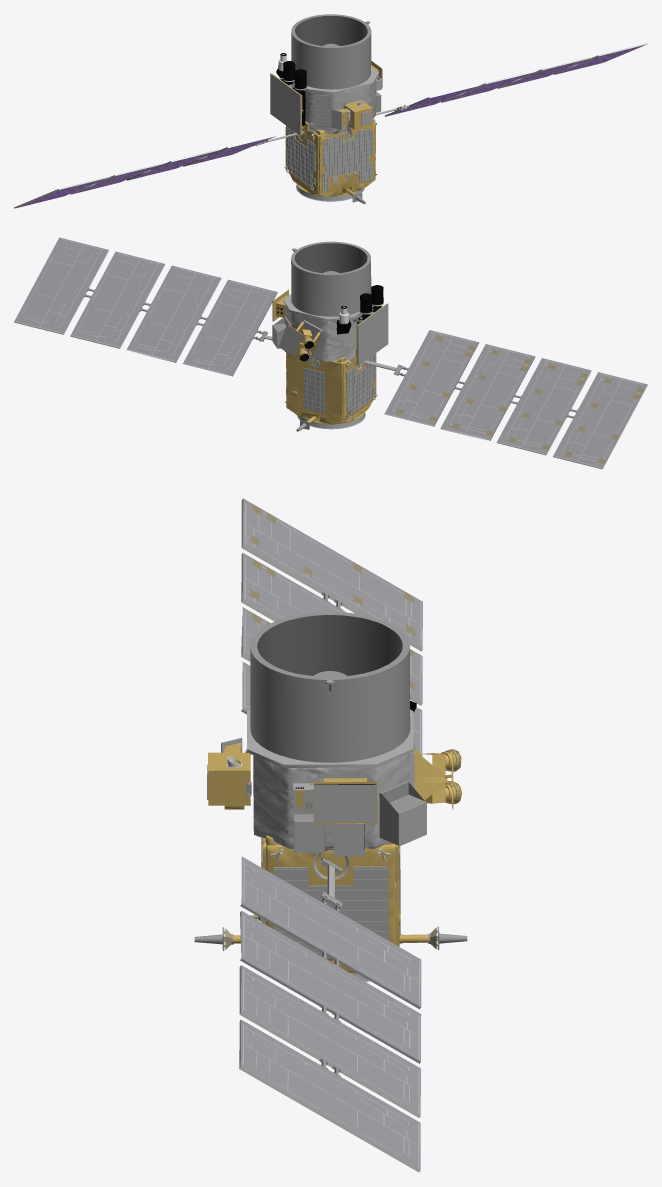
File: Calipso.glb
3 views of the same model, one above another, from view 1: azimuth 30°, elevation 25°; view 2: azimuth 150°, elevation 25°; view 3: azimuth 270°, elevation 25° (orthographic). The views are drawn at different scales.
Visible parts, largest first — view 1: Mesh _node_5, Mesh _node_19, Mesh _node_16, Mesh _node_7, Mesh _node_1, Mesh _node_18, Mesh _node_3, Mesh _node_17, Mesh _node_14, Mesh, Mesh _node_9, Mesh _node_10 (+5 smaller); view 2: Mesh _node_16, Mesh _node_7, Mesh _node_5, Mesh _node_19, Mesh _node_3, Mesh _node_18, Mesh _node_1, Mesh _node_0, Mesh _node_4, Mesh _node_14, Mesh _node_17, Mesh _node_2; view 3: Mesh _node_16, Mesh _node_7, Mesh _node_19, Mesh _node_18, Mesh _node_1, Mesh _node_5, Mesh _node_4, Mesh _node_2, Mesh _node_17, Mesh _node_0.
Boxes of the visible parts, x1,y1,x2,y2 form: Mesh _node_5: (270,20,373,191); Mesh _node_19: (291,14,371,89); Mesh _node_16: (15,44,646,208); Mesh _node_7: (267,65,397,200); Mesh _node_1: (285,65,378,197); Mesh _node_18: (295,16,367,45); Mesh _node_3: (285,122,375,193); Mesh _node_17: (14,43,647,208); Mesh _node_14: (276,53,382,189); Mesh: (17,46,642,207); Mesh _node_9: (20,45,644,206); Mesh _node_10: (27,50,631,204); Mesh _node_16: (14,237,647,468); Mesh _node_7: (16,239,642,467); Mesh _node_5: (272,248,388,415); Mesh _node_19: (291,241,371,316); Mesh _node_3: (286,352,376,421); Mesh _node_18: (294,243,367,273); Mesh _node_1: (275,295,376,424); Mesh _node_0: (395,336,644,463); Mesh _node_4: (83,249,577,431); Mesh _node_14: (272,285,383,417); Mesh _node_17: (14,250,647,469); Mesh _node_2: (273,289,386,423); Mesh _node_16: (240,498,422,1170); Mesh _node_7: (242,503,423,1167); Mesh _node_19: (250,612,410,762); Mesh _node_18: (257,615,402,675); Mesh _node_1: (208,742,400,974); Mesh _node_5: (207,679,426,958); Mesh _node_4: (194,592,467,1076); Mesh _node_2: (233,748,461,943); Mesh _node_17: (239,498,422,1172); Mesh _node_0: (250,504,415,744).
Bounding box in the file's own units: 228 × 57.86 × 45.63.
